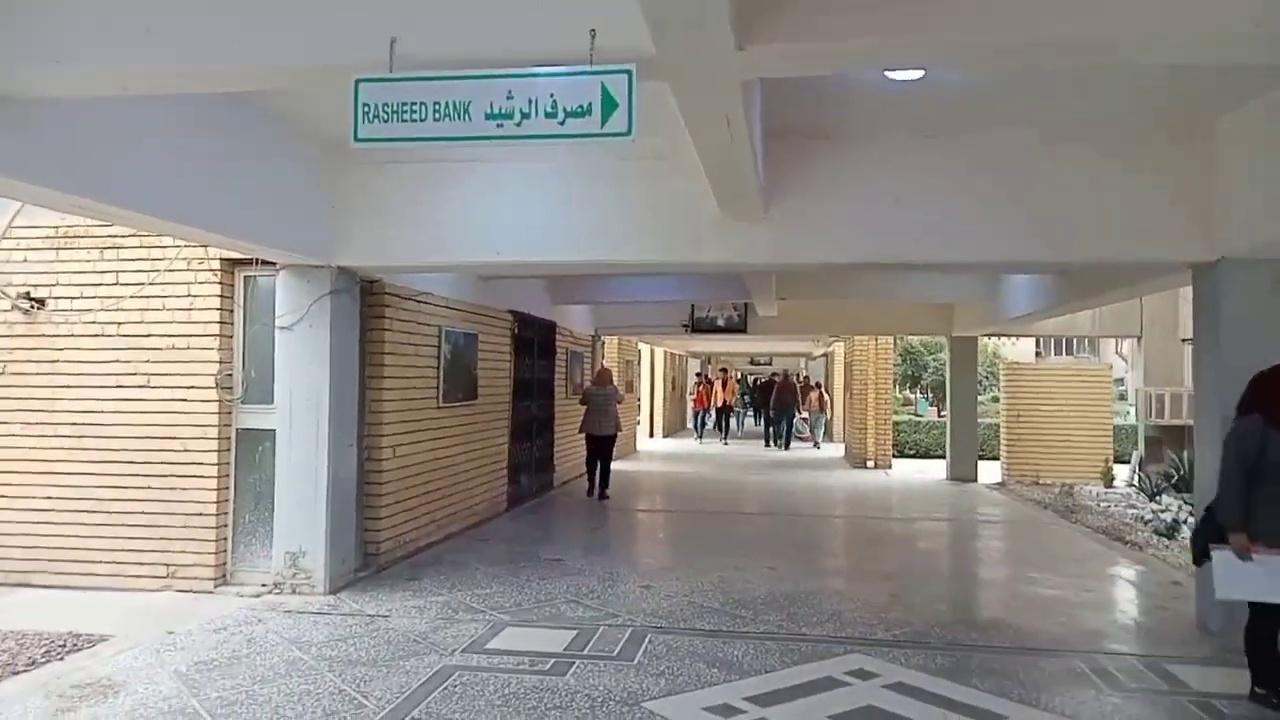person: (1211, 362, 1279, 711), (576, 366, 625, 500)
tree: (892, 335, 1004, 459), (893, 336, 946, 417), (1129, 446, 1191, 505), (894, 338, 929, 396), (921, 337, 945, 401), (977, 340, 1002, 397), (927, 374, 945, 417)
